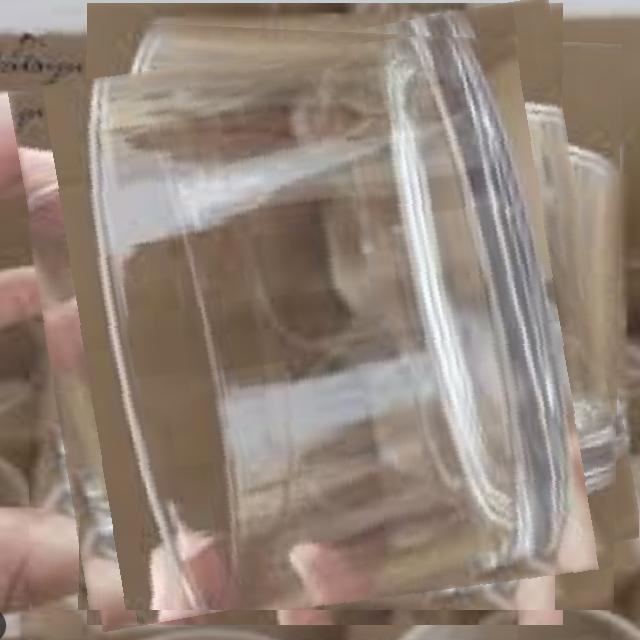recyclable: (29, 18, 622, 610)
